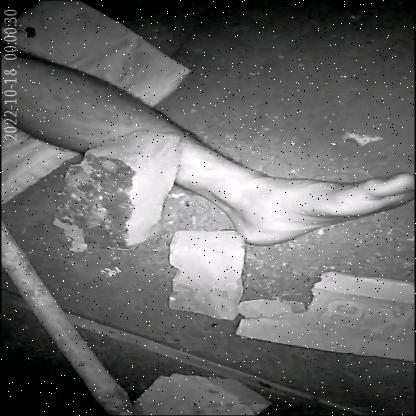leg: (0, 32, 413, 247)
